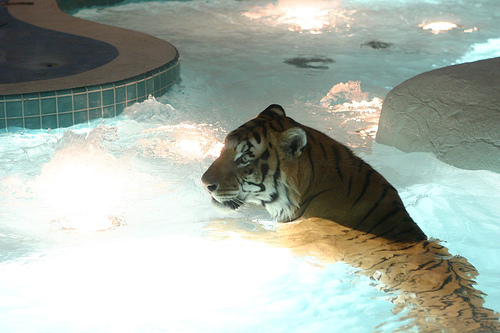Tigre: (206, 104, 369, 231)
